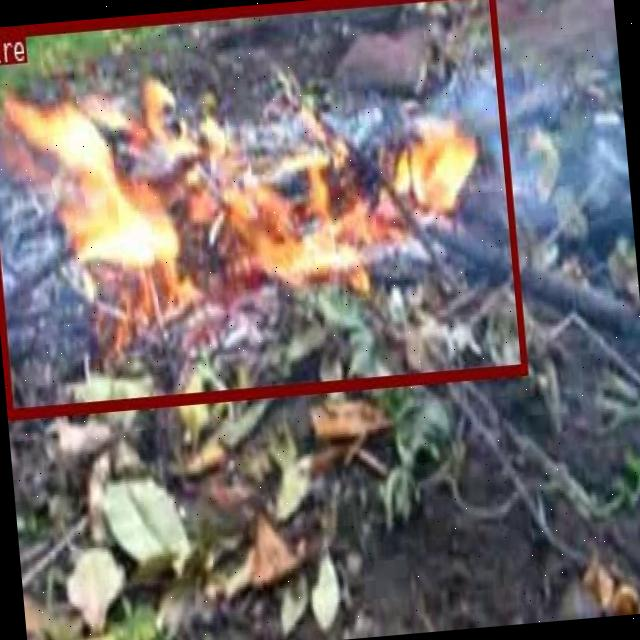fire: (0, 0, 526, 415)
